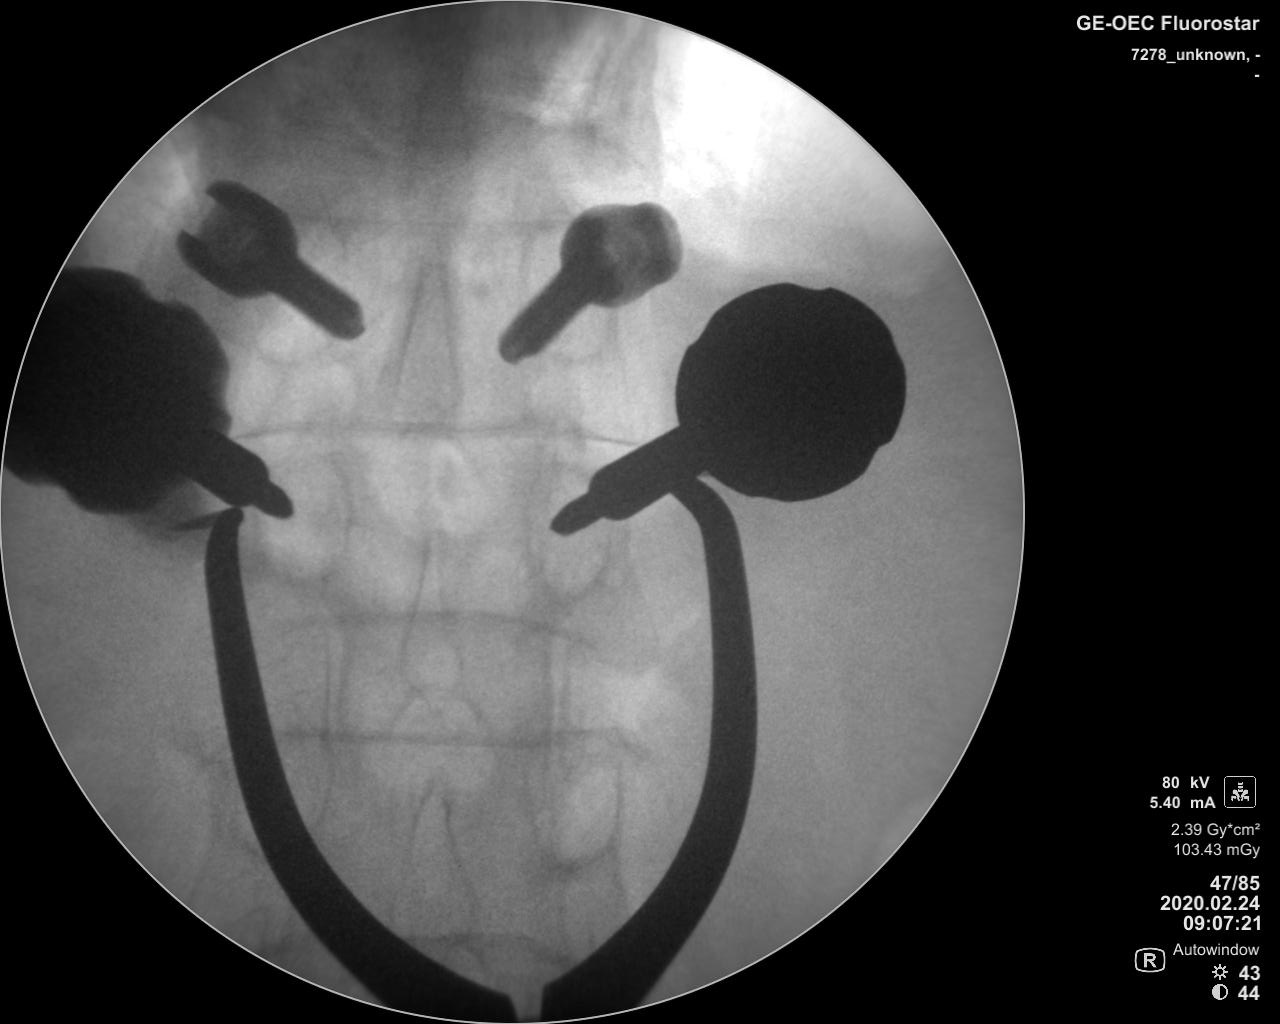eyes: (516, 224, 614, 365), (238, 227, 334, 369), (251, 447, 350, 584), (527, 747, 616, 869), (523, 465, 607, 596)
line: (236, 415, 638, 451), (261, 608, 608, 650), (274, 724, 568, 757), (411, 922, 566, 962), (296, 211, 563, 234)
nose: (379, 245, 470, 424), (396, 761, 478, 948), (394, 529, 467, 702)
